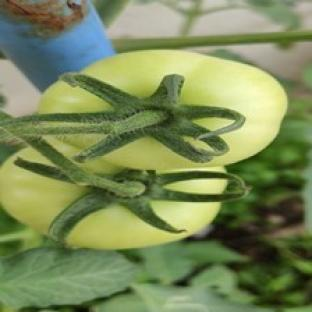Tomato: (83, 51, 286, 169), (67, 201, 220, 249)
